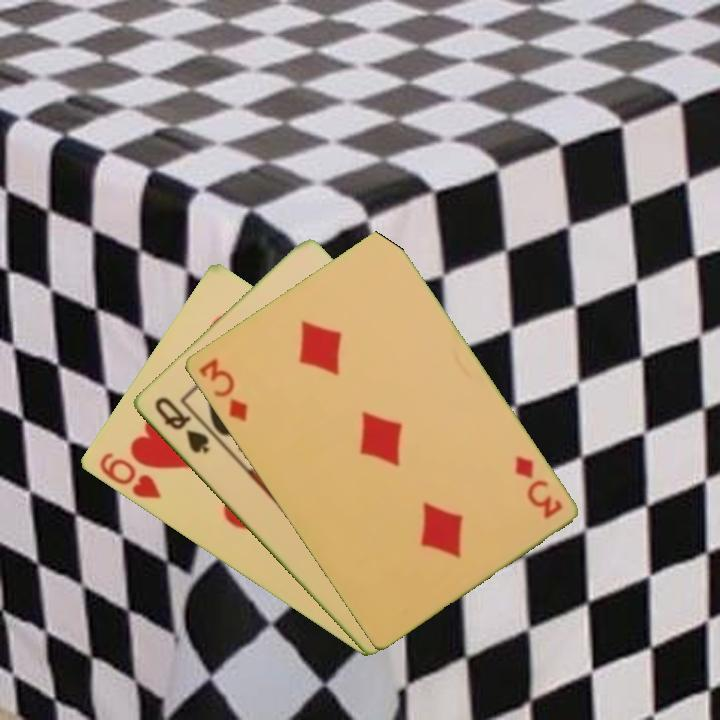3d: (194, 355, 250, 425), (510, 452, 565, 522)
6h: (95, 448, 164, 502)
Qs: (150, 393, 212, 457)
